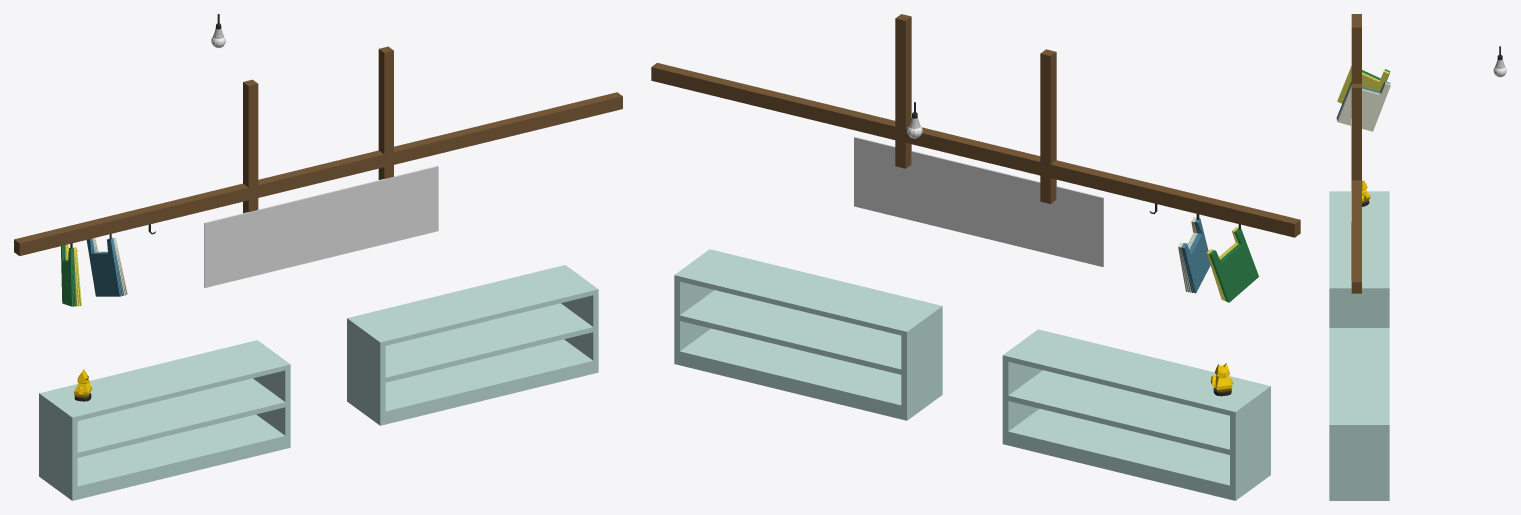
File: sarisarilarge.fbx
The picture shows the model from 3 angles, left to right: view 1: azimuth 30°, elevation 25°; view 2: azimuth 150°, elevation 25°; view 3: azimuth 270°, elevation 25°; orthographic projection. The views are drawn at different scales.
Parts seen in each view (by area): view 1: rack.001, rack, stallname, sarisarilarge, Plastic.012, Plastic.011; view 2: rack.001, rack, sarisarilarge, stallname, Plastic.011, Plastic.012; view 3: rack.001, rack, sarisarilarge, Plastic.012, Plastic.011, light.
Part boxes in pixels (x1,y1,x2,y2): rack.001: [347, 265, 598, 425]; rack: [39, 340, 290, 500]; stallname: [204, 166, 438, 287]; sarisarilarge: [14, 46, 622, 255]; Plastic.012: [86, 237, 127, 296]; Plastic.011: [61, 244, 81, 306]; rack.001: [674, 249, 942, 420]; rack: [1002, 329, 1270, 500]; sarisarilarge: [651, 14, 1300, 237]; stallname: [854, 137, 1103, 266]; Plastic.011: [1206, 227, 1258, 302]; Plastic.012: [1178, 217, 1210, 293]; rack.001: [1329, 328, 1389, 500]; rack: [1329, 191, 1389, 327]; sarisarilarge: [1351, 14, 1361, 293]; Plastic.012: [1336, 81, 1390, 131]; Plastic.011: [1337, 66, 1390, 103]; light: [1493, 46, 1506, 77].
Size of the model in its own units: 10.41 by 5.93 by 2.91.
